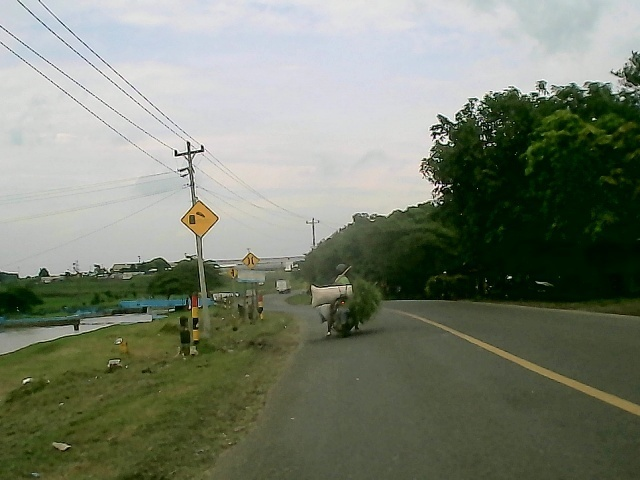Jembatan: (241, 251, 260, 269)
Peringatan tepi air: (179, 199, 221, 239)
